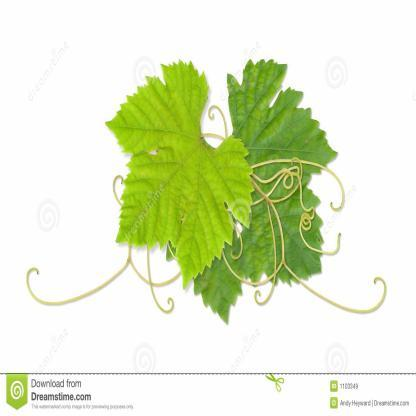grape leaf black rot: (101, 58, 255, 292)
